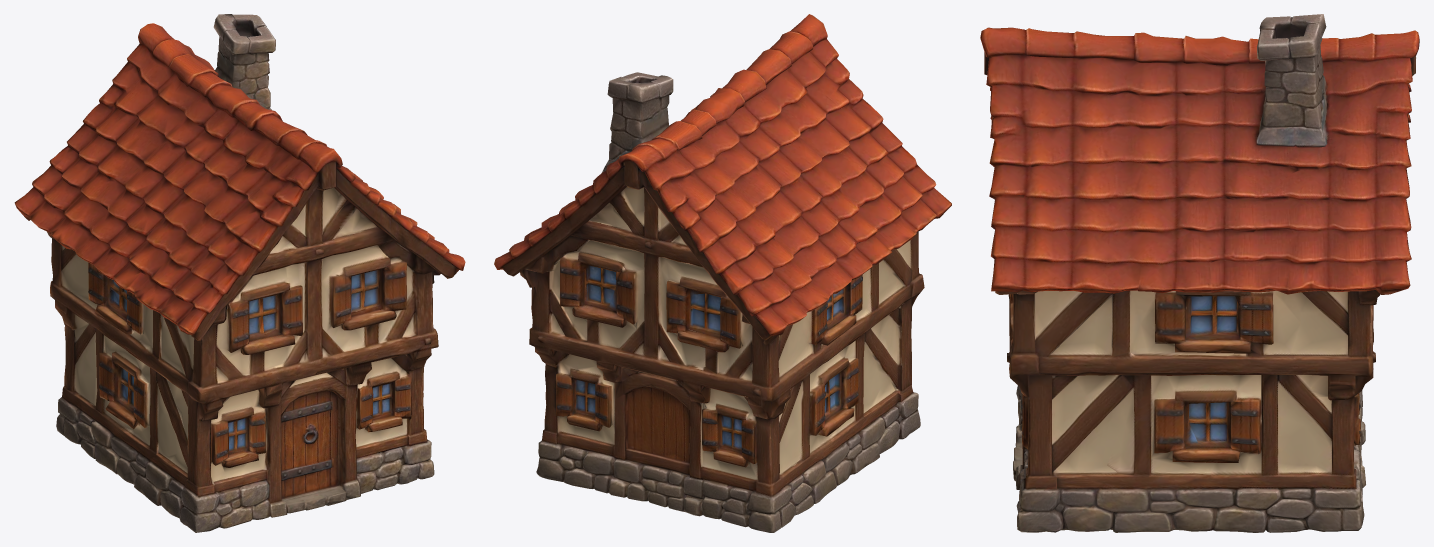
File: house_a.glb
3 renders of one model, left to right at view 1: azimuth 30°, elevation 25°; view 2: azimuth 150°, elevation 25°; view 3: azimuth 270°, elevation 25°, orthographic. The views are drawn at different scales.
Visible parts, largest first — view 1: house_a; view 2: house_a; view 3: house_a.
Boxes of the visible parts, x1,y1,x2,y2 form: house_a: [14, 14, 465, 532]; house_a: [494, 14, 951, 532]; house_a: [980, 14, 1419, 532].
Bounding box in the file's own units: 6.09 × 8 × 6.8.
Materials: 1 (1 with a texture image).
